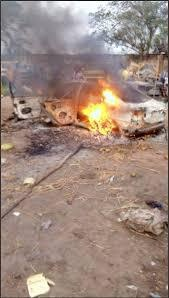fire: (78, 80, 127, 135)
